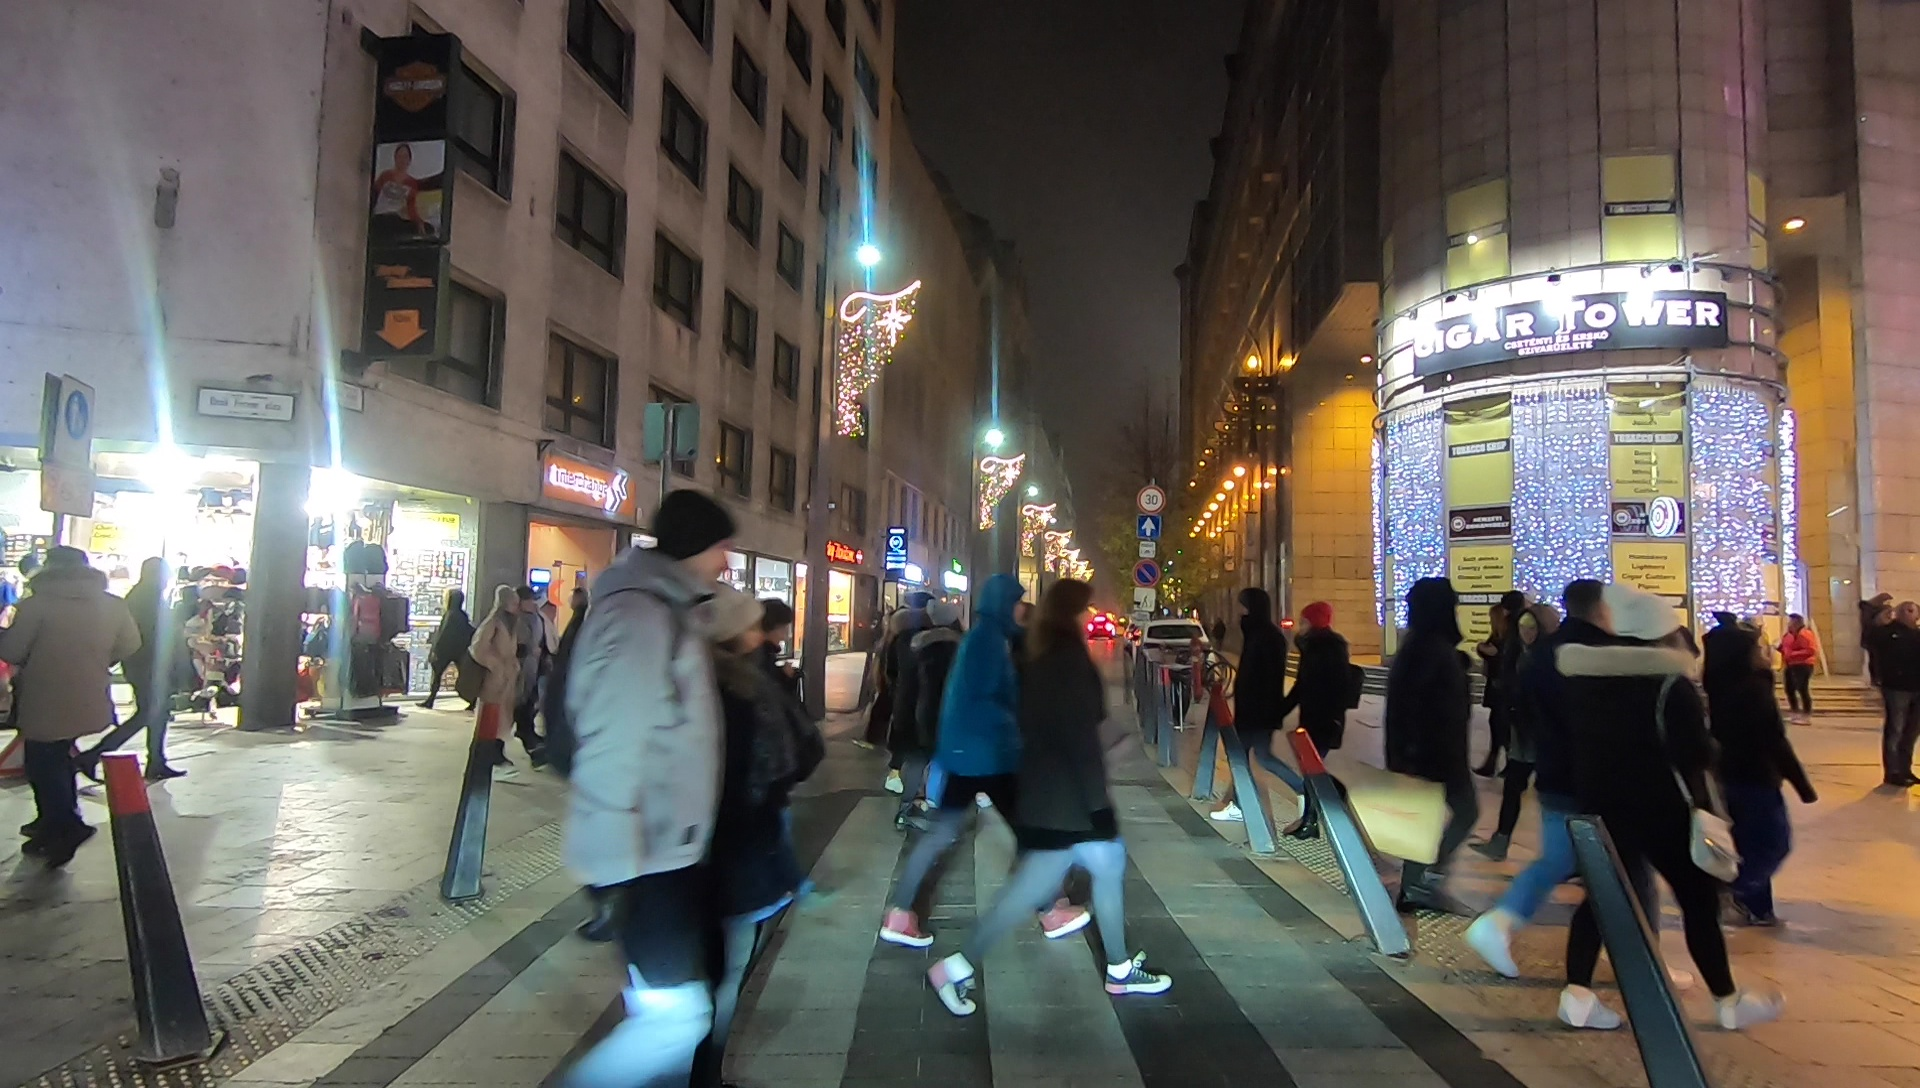person: (937, 582, 1184, 1003), (1557, 587, 1786, 1024), (566, 487, 726, 1088), (1469, 567, 1680, 982), (892, 573, 1086, 944), (13, 543, 128, 864), (697, 575, 766, 1060), (1384, 574, 1476, 906), (69, 547, 194, 778), (753, 605, 828, 923), (1497, 611, 1573, 861), (1285, 595, 1363, 834), (1223, 582, 1295, 834), (893, 611, 957, 836), (1866, 591, 1920, 791), (475, 581, 516, 768), (425, 589, 476, 714), (513, 579, 545, 755), (1781, 607, 1810, 718)
